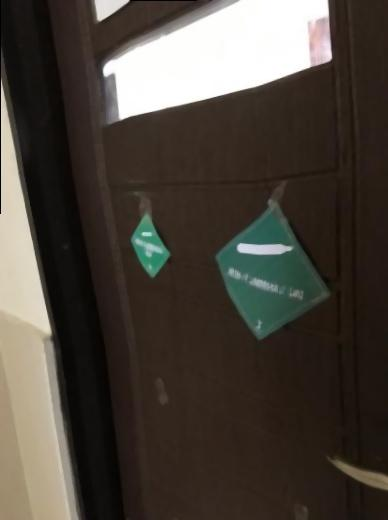non-flammable-gas: (214, 193, 336, 338), (128, 211, 172, 282)
